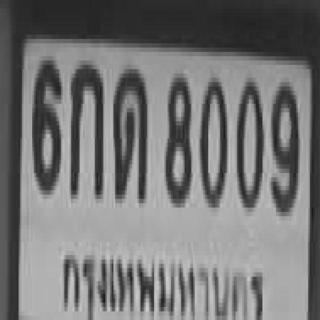A01: (69, 60, 102, 194)
A20: (112, 63, 146, 197)
N00: (235, 72, 262, 206), (198, 71, 225, 201)
N06: (30, 54, 59, 188)
N08: (164, 67, 190, 201)
N09: (269, 76, 298, 210)
P04: (59, 243, 269, 320)
